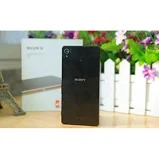sony: (60, 44, 98, 128)
